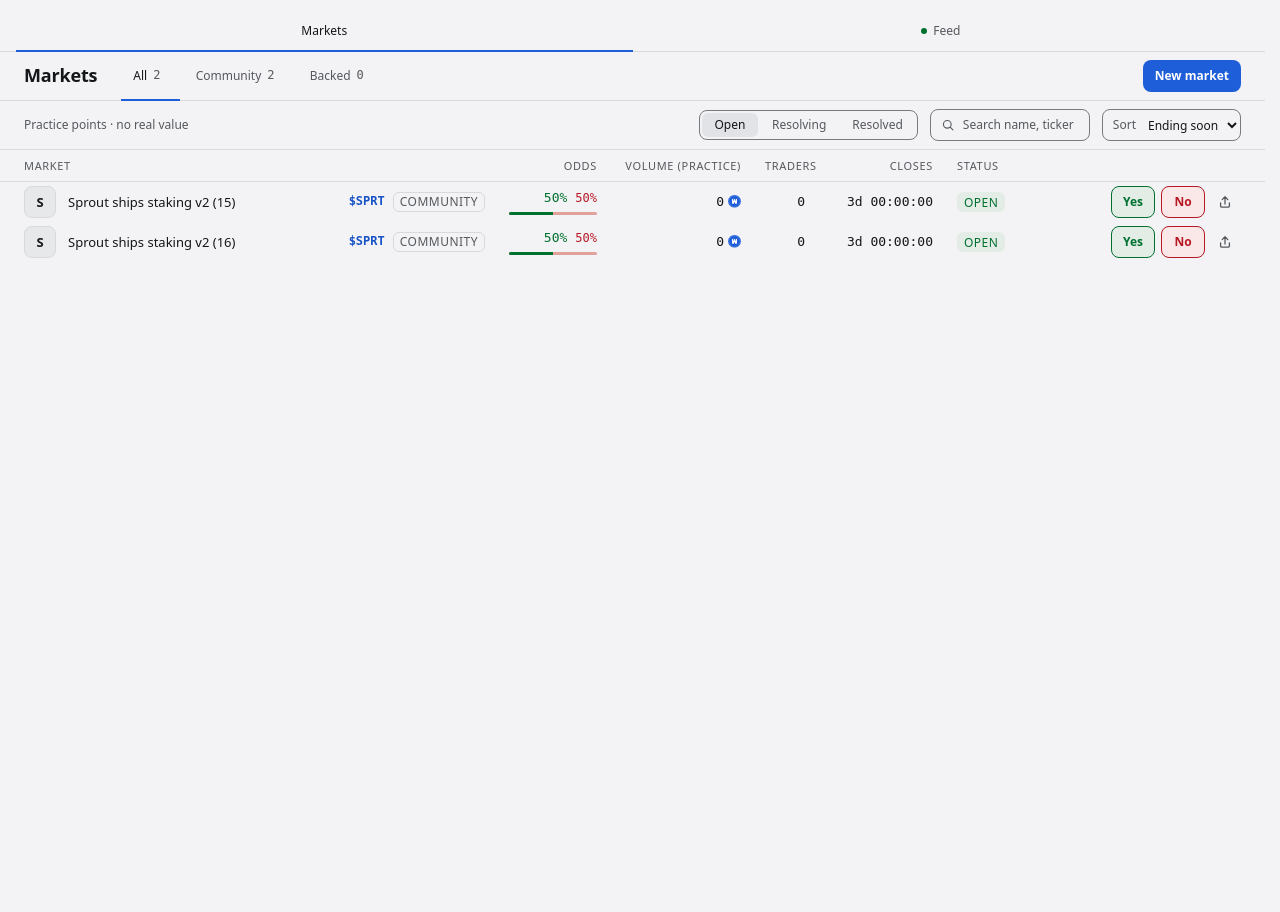
it: markets home: small screens › shows tabs, the markets pane first, and swaps panes on the Feed tab
The image size is (1280, 912).
expect the table named "Market list" is shown: met, box top-left (0, 150), bottom-right (1265, 262)
expect the element "X feed" is not shown: met
Click the tab "Feed" at (941, 32), box top-left (632, 12), bottom-right (1249, 52)
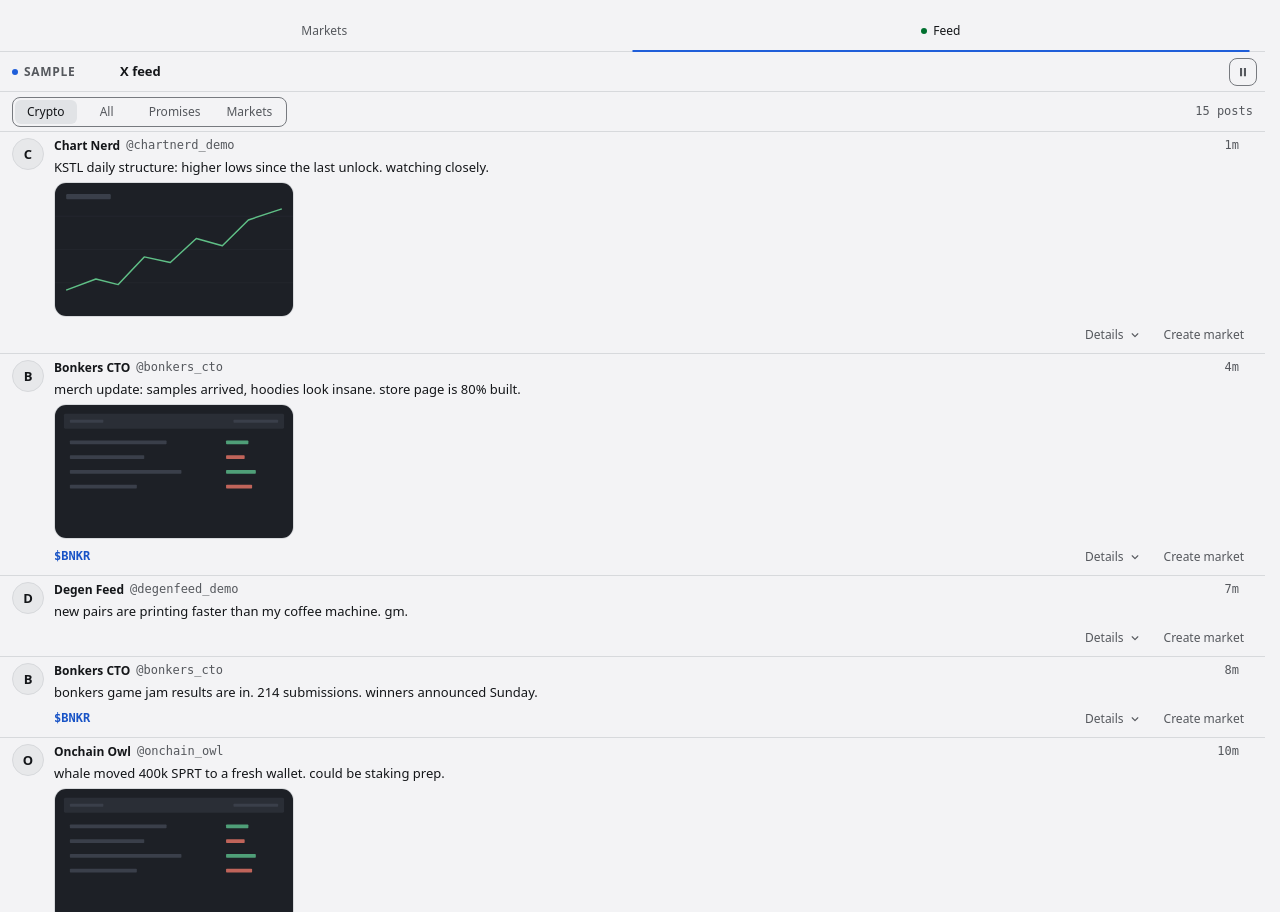
expect the tab "Feed" is selected: met, box top-left (632, 12), bottom-right (1249, 52)
Click the tab "Markets" at (324, 32), box top-left (16, 12), bottom-right (632, 52)
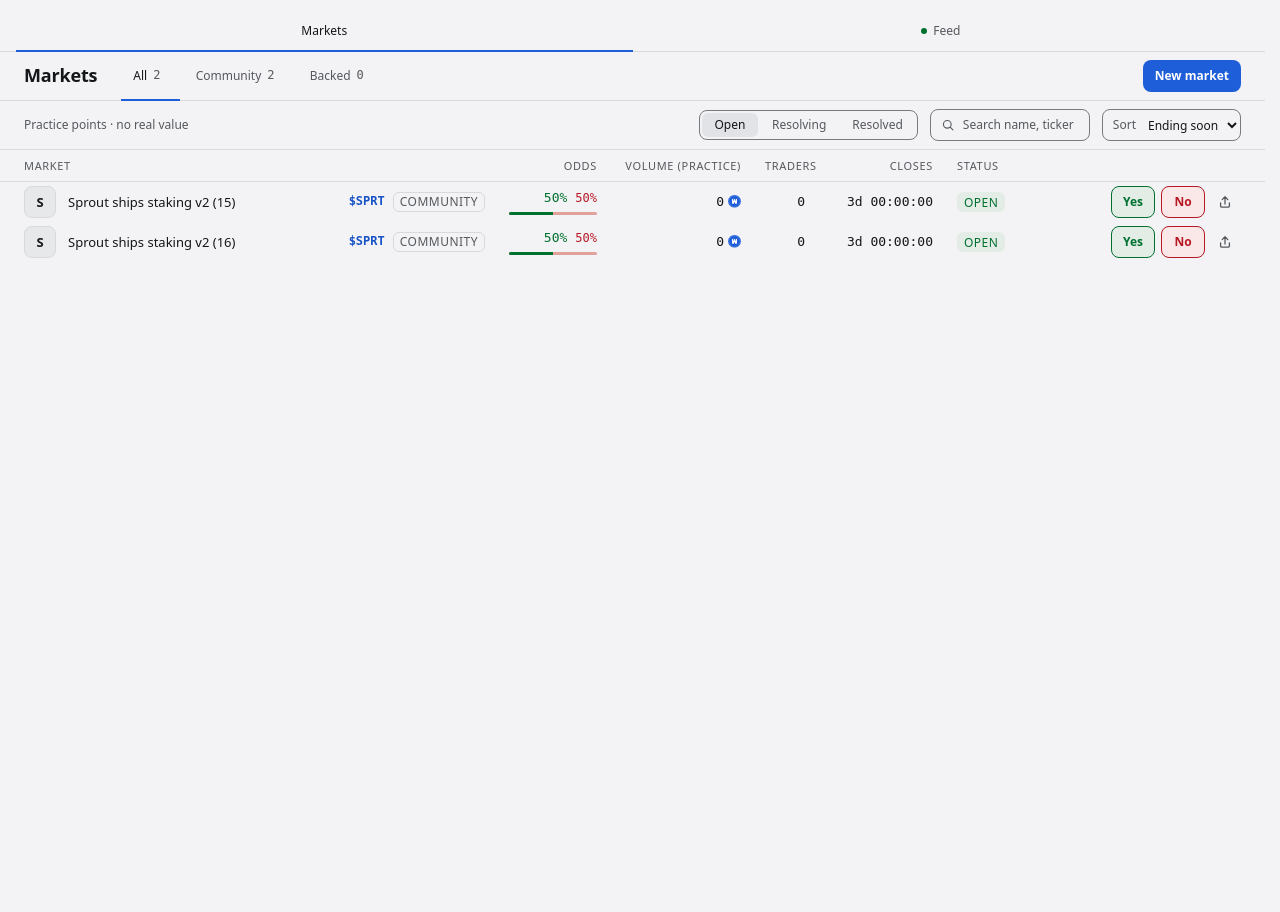
expect the table named "Market list" is shown: met, box top-left (0, 150), bottom-right (1265, 262)
expect the heading "X feed" is gone: met
